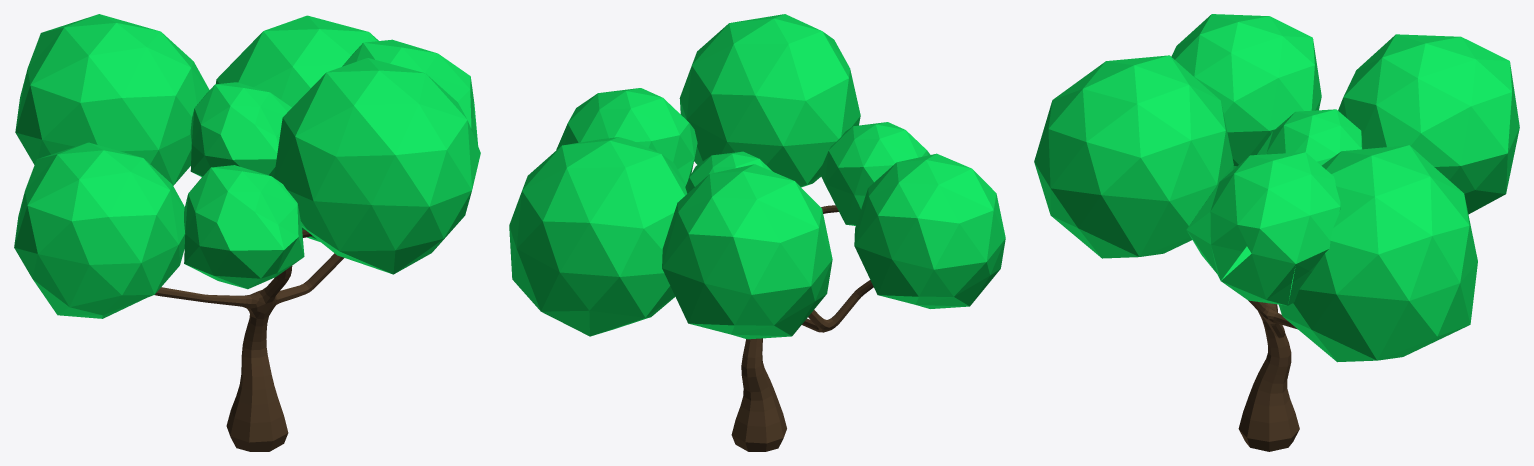
The model's file is árvore 2.fbx.
The picture shows the model from 3 angles, left to right: view 1: azimuth 30°, elevation 25°; view 2: azimuth 150°, elevation 25°; view 3: azimuth 270°, elevation 25°; orthographic projection. The views are drawn at different scales.
Parts seen in each view (by area): view 1: Folhas, Tronco; view 2: Folhas, Tronco; view 3: Folhas, Tronco.
Boxes of the visible parts, x1=… form: Folhas: x1=14, y1=14, x2=480, y2=318; Tronco: x1=155, y1=230, x2=343, y2=451; Folhas: x1=509, y1=14, x2=1005, y2=339; Tronco: x1=731, y1=205, x2=873, y2=451; Folhas: x1=1034, y1=14, x2=1519, y2=362; Tronco: x1=1238, y1=300, x2=1299, y2=451.
Bounding box in the file's own units: 1421 × 1222 × 1324.
